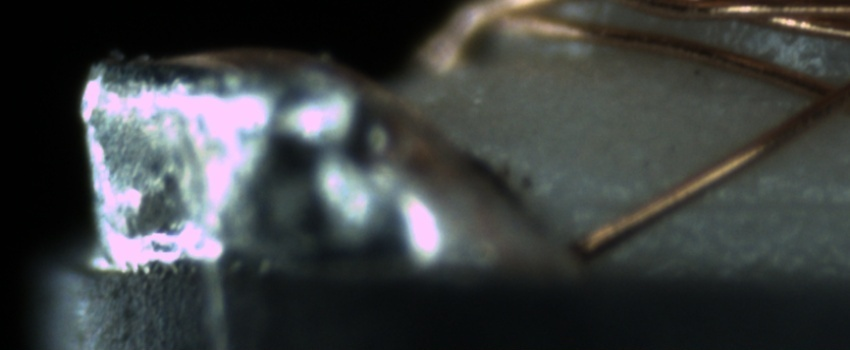CL: (797, 69, 849, 126)
DL: (596, 172, 849, 237)
